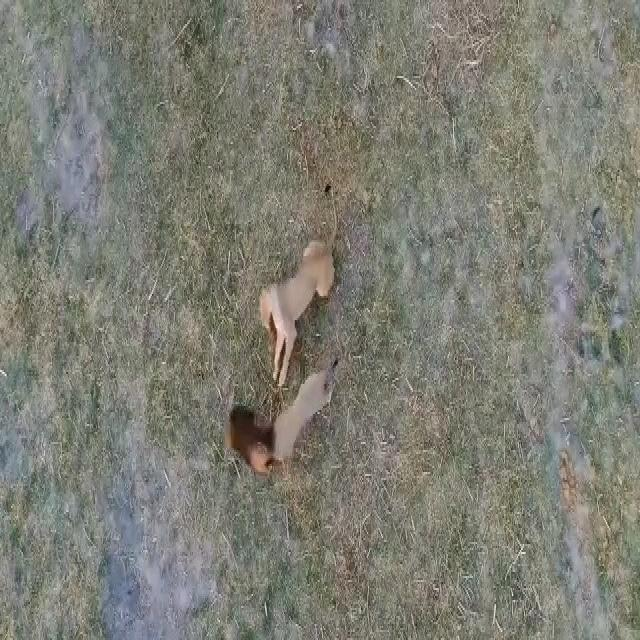Lion: (258, 200, 338, 378), (229, 373, 345, 469)
